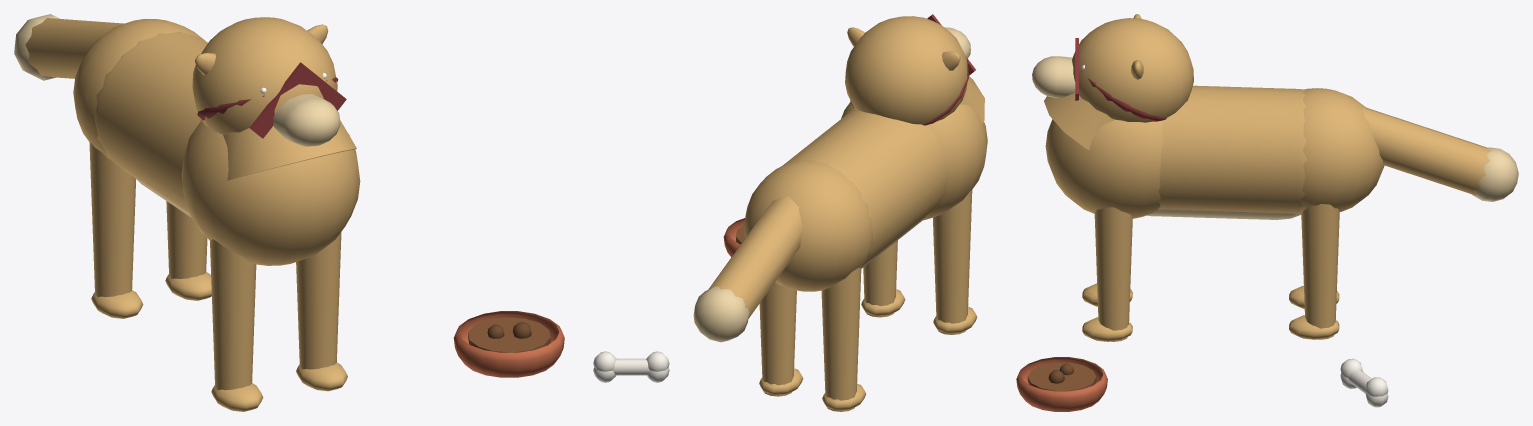
The model's file is h24-anjing.glb.
The picture shows the model from 3 angles, left to right: view 1: azimuth 30°, elevation 25°; view 2: azimuth 150°, elevation 25°; view 3: azimuth 270°, elevation 25°; orthographic projection. The views are drawn at different scales.
Parts seen in each view (by area): view 1: Anjing Golden, head, neck; view 2: Anjing Golden, head, neck; view 3: Anjing Golden, head, neck.
Part boxes in pixels (bbox=[...]): Anjing Golden: bbox=[14, 14, 564, 411]; head: bbox=[192, 17, 340, 146]; neck: bbox=[197, 62, 356, 180]; Anjing Golden: bbox=[593, 102, 987, 411]; head: bbox=[845, 16, 970, 124]; neck: bbox=[850, 14, 984, 125]; Anjing Golden: bbox=[1016, 85, 1518, 411]; head: bbox=[1032, 14, 1193, 122]; neck: bbox=[1044, 38, 1166, 149].
Bounding box in the file's own units: 0.6785 × 0.7214 × 1.1.
